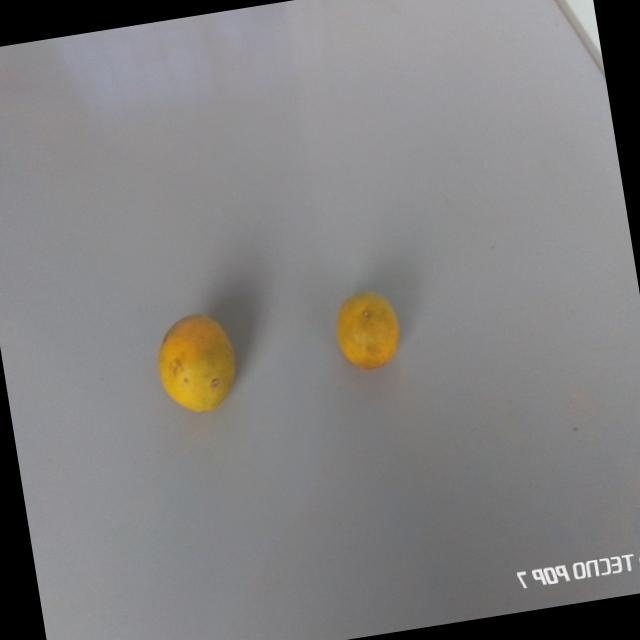agrume: (149, 304, 248, 423), (329, 285, 409, 383)
